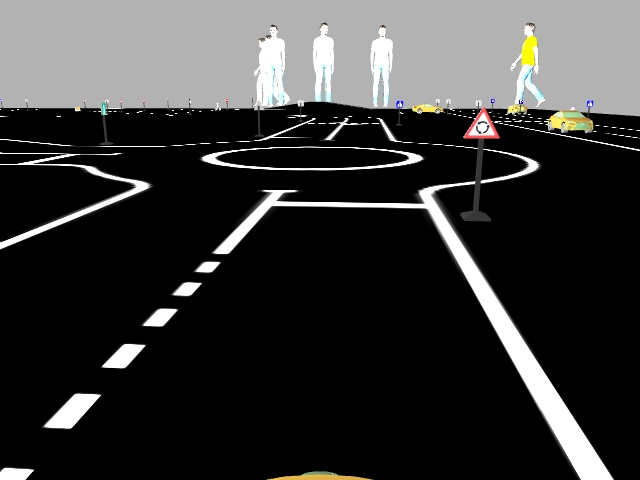Roundabout: (458, 106, 501, 140)
